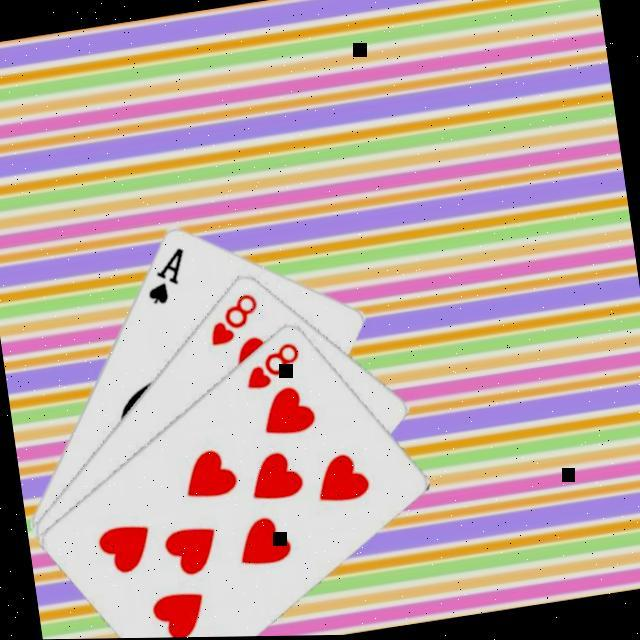8H: (236, 340, 306, 398), (199, 291, 264, 353)
AS: (136, 245, 192, 312)
